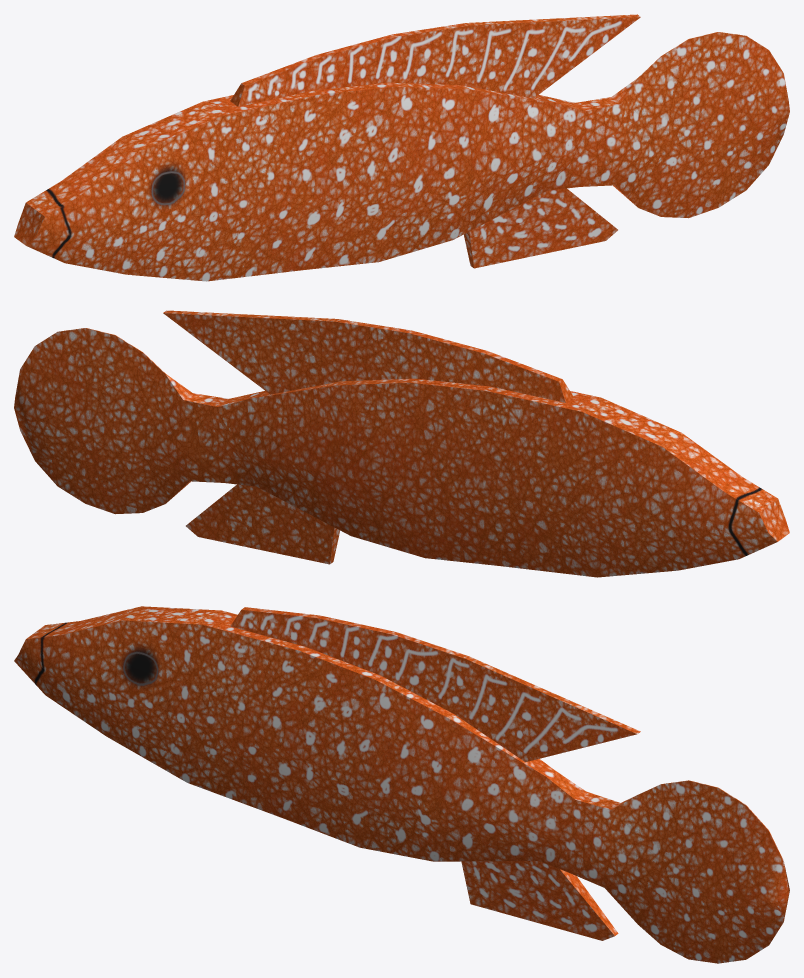
File: fish.fbx
The picture shows the model from 3 angles, top to bottom: view 1: azimuth 30°, elevation 25°; view 2: azimuth 150°, elevation 25°; view 3: azimuth 330°, elevation 25°; orthographic projection.
Visible parts, largest first — view 1: Cylinder001; view 2: Cylinder001; view 3: Cylinder001.
Boxes of the visible parts, x1,y1,x2,y2 form: Cylinder001: (14, 14, 789, 281); Cylinder001: (14, 310, 789, 577); Cylinder001: (14, 606, 789, 963).
Size of the model in its own units: 39.38 by 12.49 by 2.96.
1 material, 1 textured.
